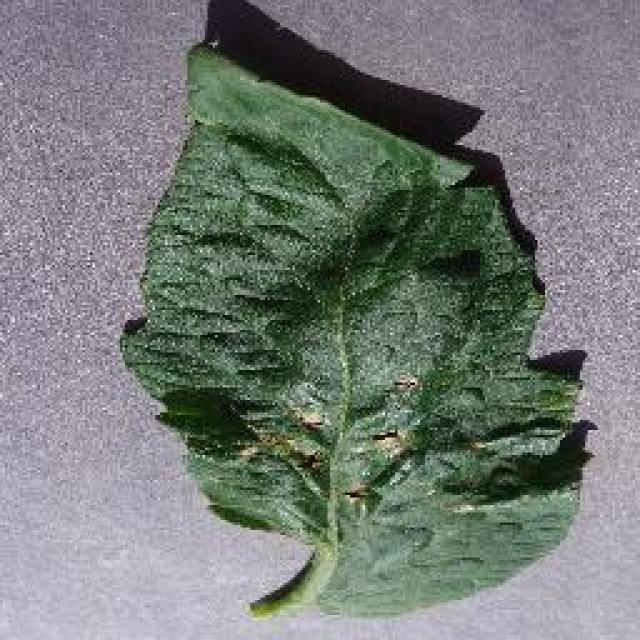Tomato Septoria spot leaf: (121, 42, 586, 620)
